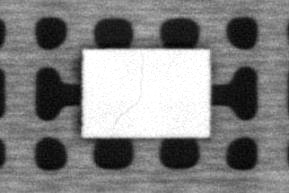DIE_CRACK: (110, 52, 144, 133)
